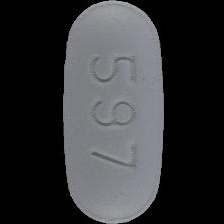0904-6506: (0, 0, 224, 224)
